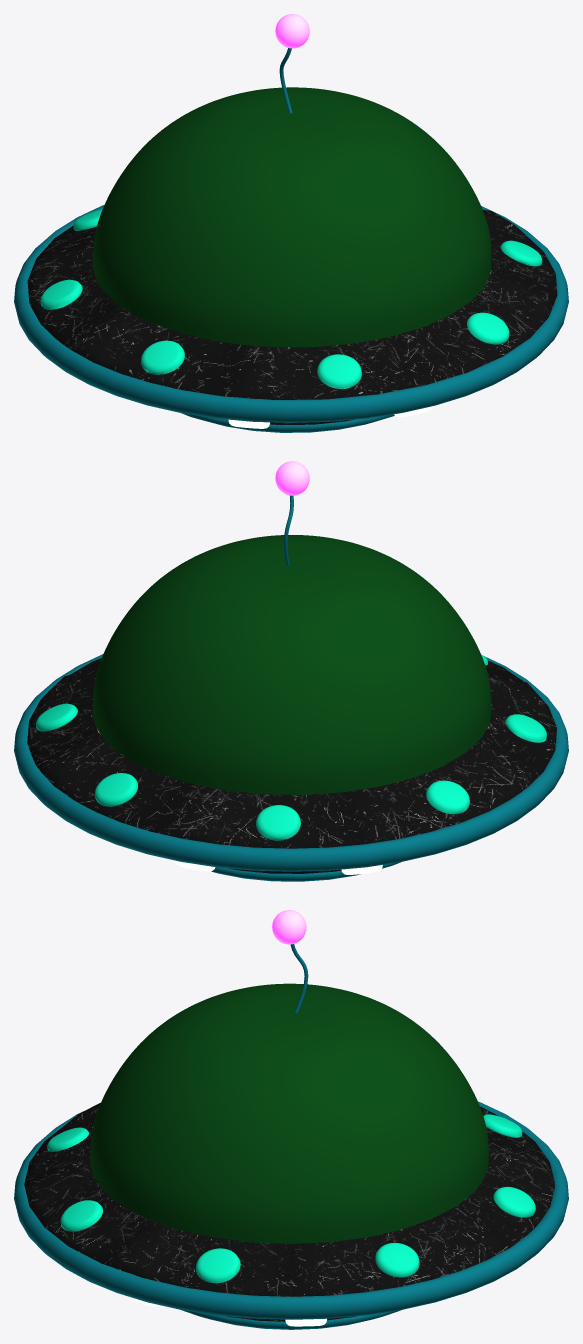
File: OVNI.fbx
3 views of the same model, one above another, from view 1: azimuth 30°, elevation 25°; view 2: azimuth 150°, elevation 25°; view 3: azimuth 270°, elevation 25° (orthographic).
Visible parts, largest first — view 1: Cupula, Circle.001, Circle.003, Cylinder.006, Circle.004, Sphere; view 2: Cupula, Circle.001, Circle.003, Cylinder.006, Circle.004, Sphere; view 3: Cupula, Circle.001, Circle.003, Cylinder.006, Circle.004, Sphere.
Part boxes in pixels (x1,y1,x2,y2): Cupula: [93, 87, 491, 347]; Circle.001: [27, 209, 557, 425]; Circle.003: [14, 205, 568, 422]; Cylinder.006: [40, 209, 542, 389]; Circle.004: [181, 413, 394, 432]; Sphere: [275, 14, 309, 48]; Cupula: [93, 535, 491, 794]; Circle.001: [27, 658, 556, 873]; Circle.003: [14, 654, 568, 871]; Cylinder.006: [36, 655, 546, 840]; Circle.004: [211, 862, 400, 881]; Sphere: [275, 461, 309, 495]; Cupula: [90, 983, 488, 1243]; Circle.001: [24, 1102, 555, 1321]; Circle.003: [14, 1101, 568, 1319]; Cylinder.006: [47, 1114, 535, 1283]; Circle.004: [181, 1310, 401, 1329]; Sphere: [272, 910, 306, 944].
Size of the model in its own units: 284 by 201 by 284.
6 materials, 1 textured.
